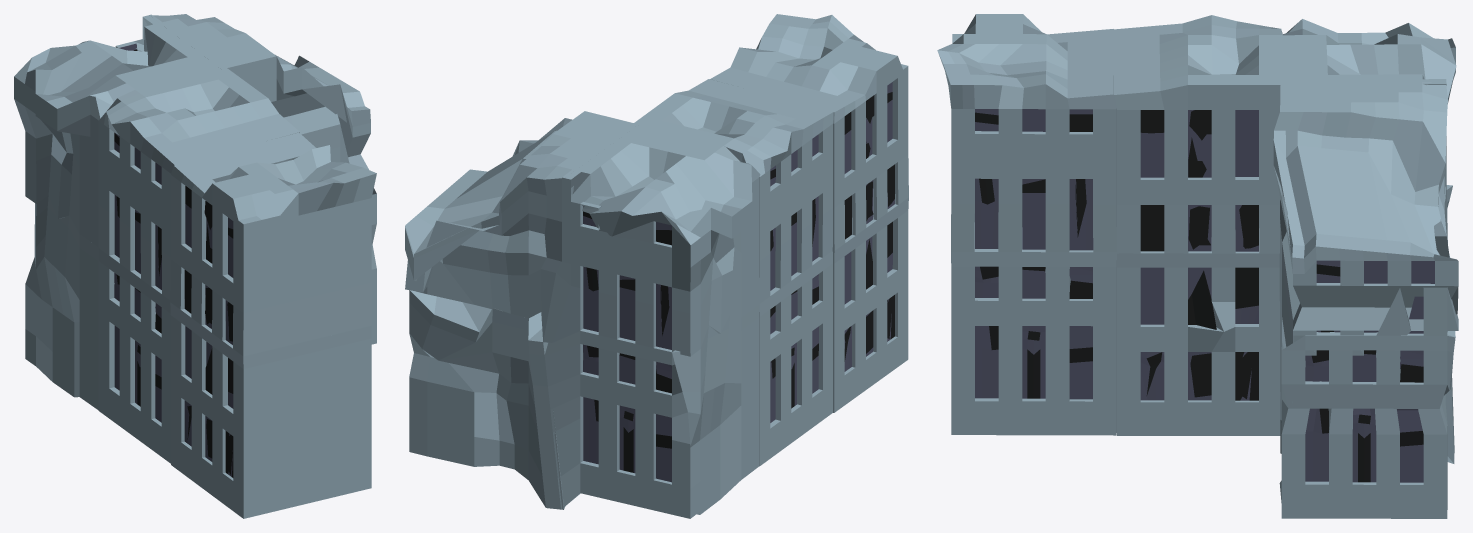
File: house5.fbx
3 views of the same model, side by side, from view 1: azimuth 30°, elevation 25°; view 2: azimuth 150°, elevation 25°; view 3: azimuth 270°, elevation 25° (orthographic). The views are drawn at different scales.
Parts seen in each view (by area): view 1: Cube.002; view 2: Cube.002; view 3: Cube.002.
Boxes of the visible parts, <box> form: Cube.002: <box>14,14,376,518</box>; Cube.002: <box>405,14,908,518</box>; Cube.002: <box>937,14,1458,518</box>.
Bounding box in the file's own units: 1154 × 1267 × 1564.
